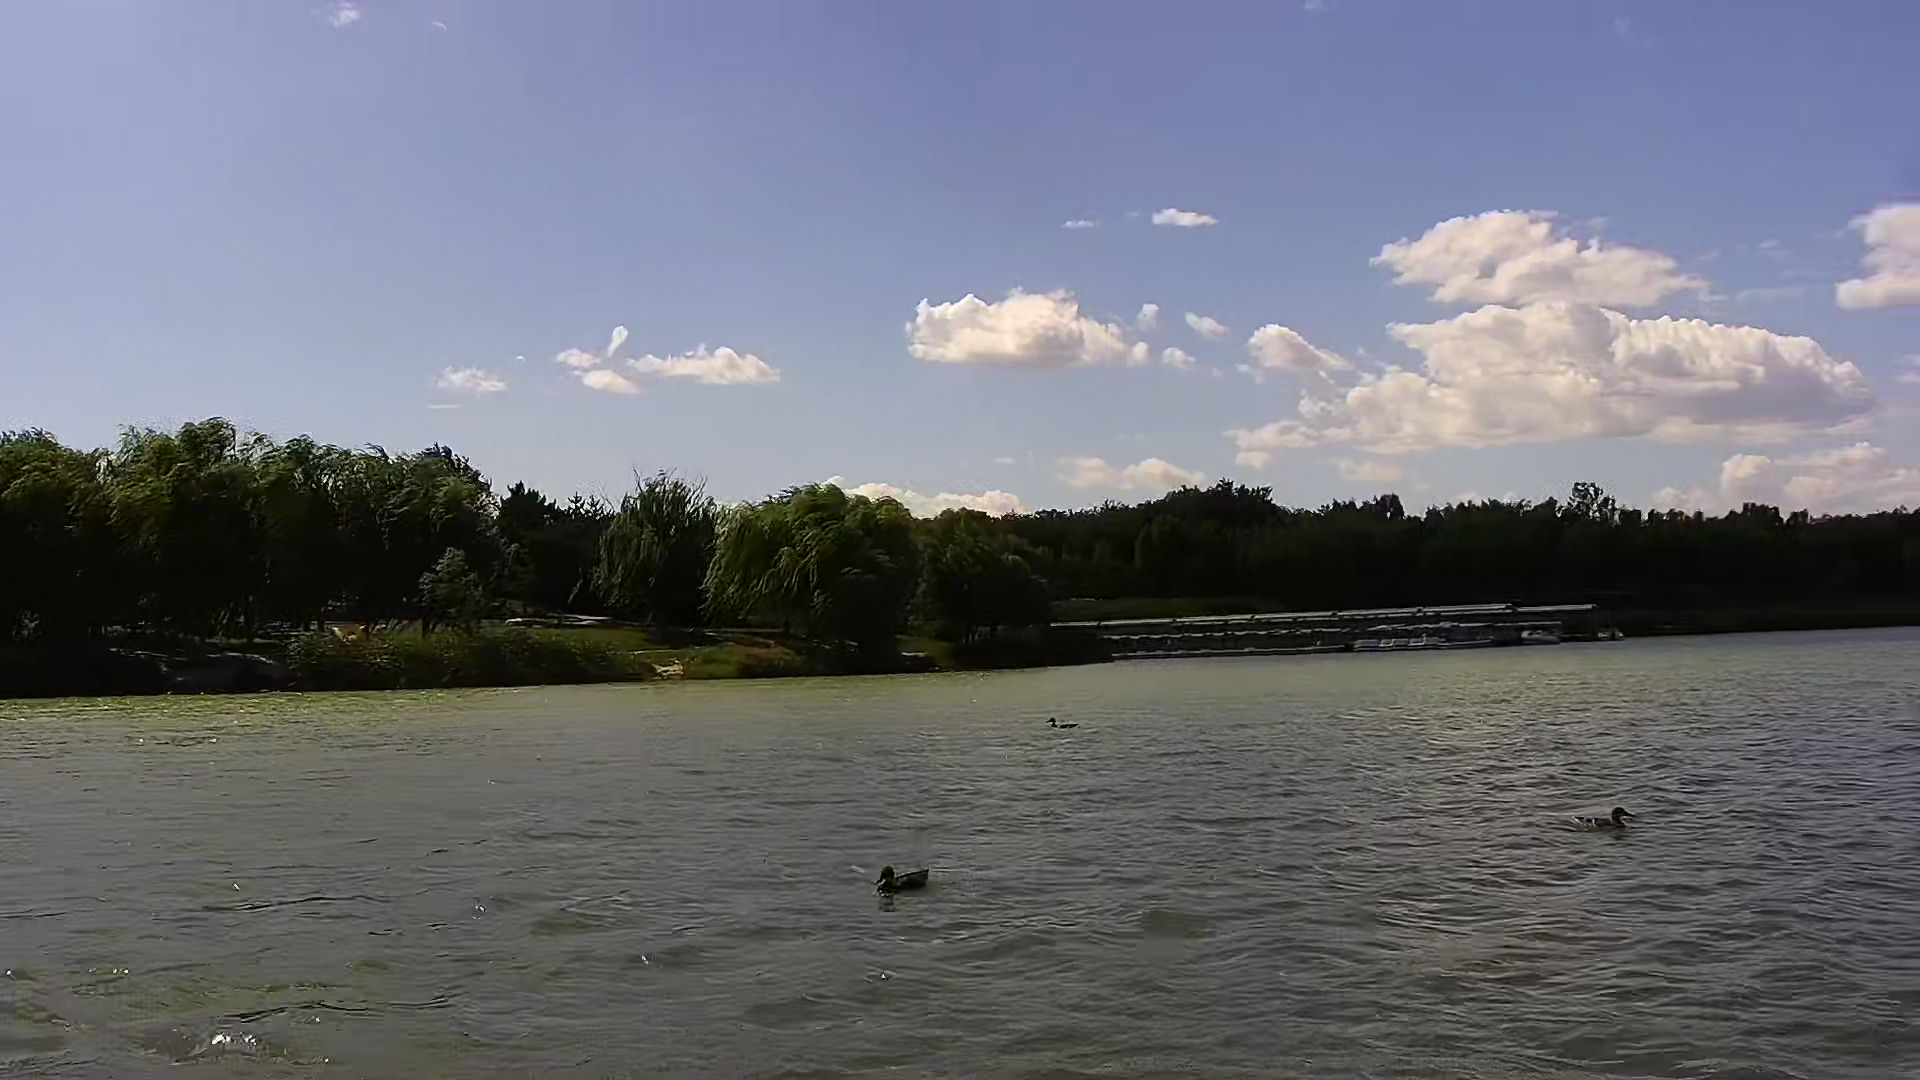animal: (873, 862, 930, 894), (1580, 806, 1634, 837), (1047, 712, 1073, 731)
harbor: (1112, 617, 1593, 657)
rock: (649, 659, 682, 678)
